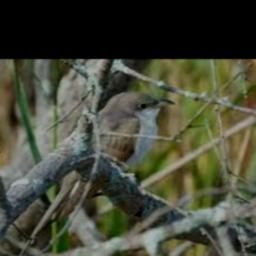Cuckoo: (38, 92, 176, 227)
